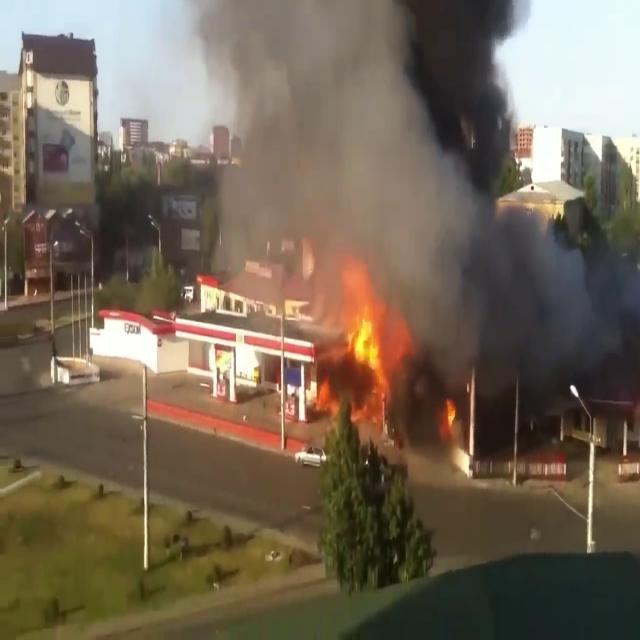Fire: (331, 282, 399, 442), (442, 386, 476, 482)
Smoke: (190, 0, 551, 274), (413, 185, 640, 395)
